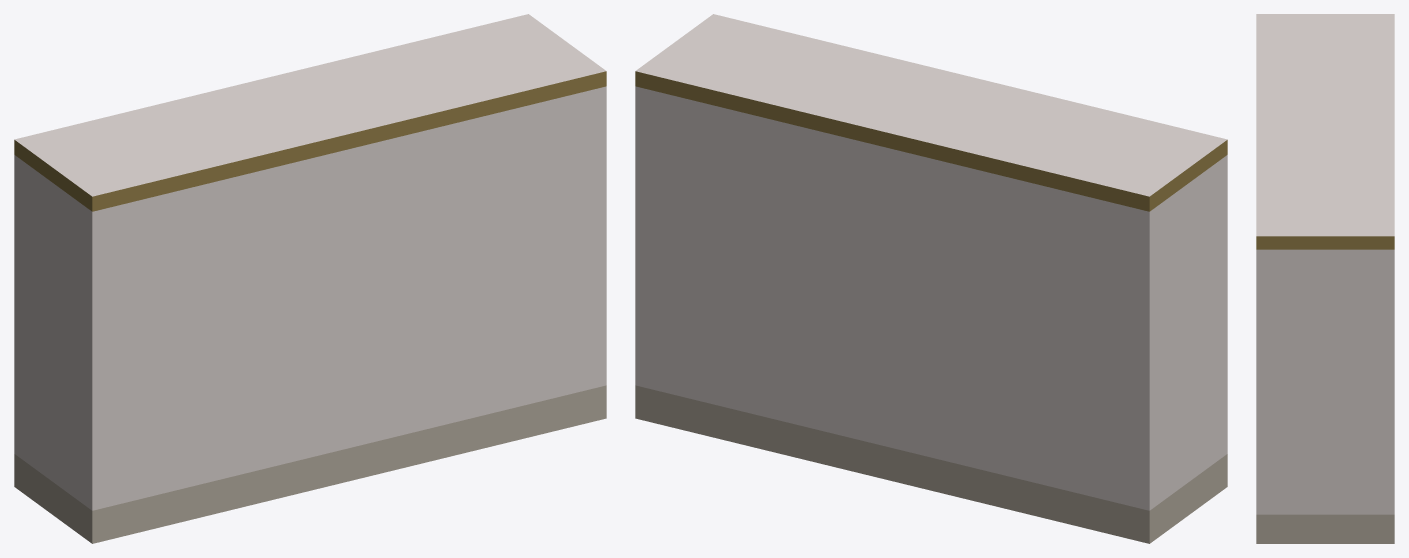
The model's file is fbx_school_outdoor_building3.fbx.
3 renders of one model, left to right at view 1: azimuth 30°, elevation 25°; view 2: azimuth 150°, elevation 25°; view 3: azimuth 270°, elevation 25°, orthographic. The views are drawn at different scales.
Visible parts, largest first — view 1: fbx_school_outdoor_building3; view 2: fbx_school_outdoor_building3; view 3: fbx_school_outdoor_building3.
Boxes of the visible parts, <box> form: fbx_school_outdoor_building3: <box>14,14,606,543</box>; fbx_school_outdoor_building3: <box>635,14,1227,543</box>; fbx_school_outdoor_building3: <box>1256,14,1394,543</box>.
Size of the model in its own units: 8.14 by 5.25 by 2.14.
Materials: 1 (1 with a texture image).
